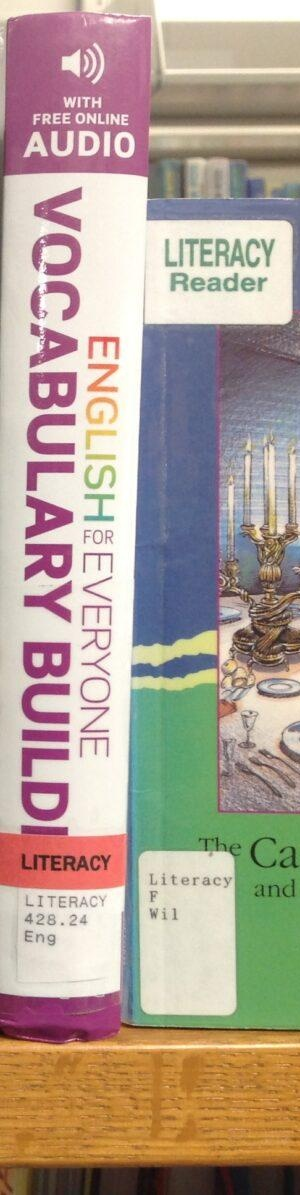call_number: (139, 854, 236, 1013), (17, 887, 110, 979)
